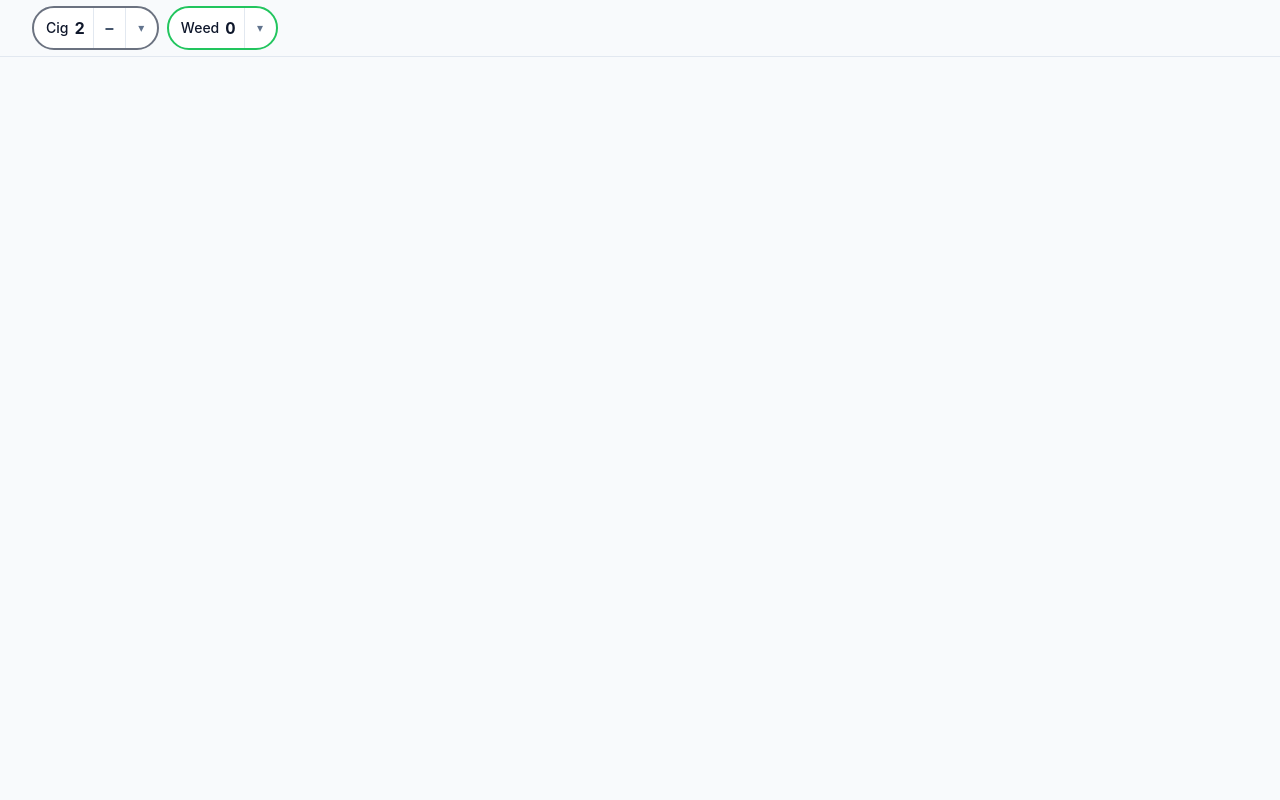
Scenario: counter pills › Undo removes that exact tap and the toast goes away
Click the button with aria-label "Cigarette": (63, 28) left=34, top=8, right=93, bottom=48
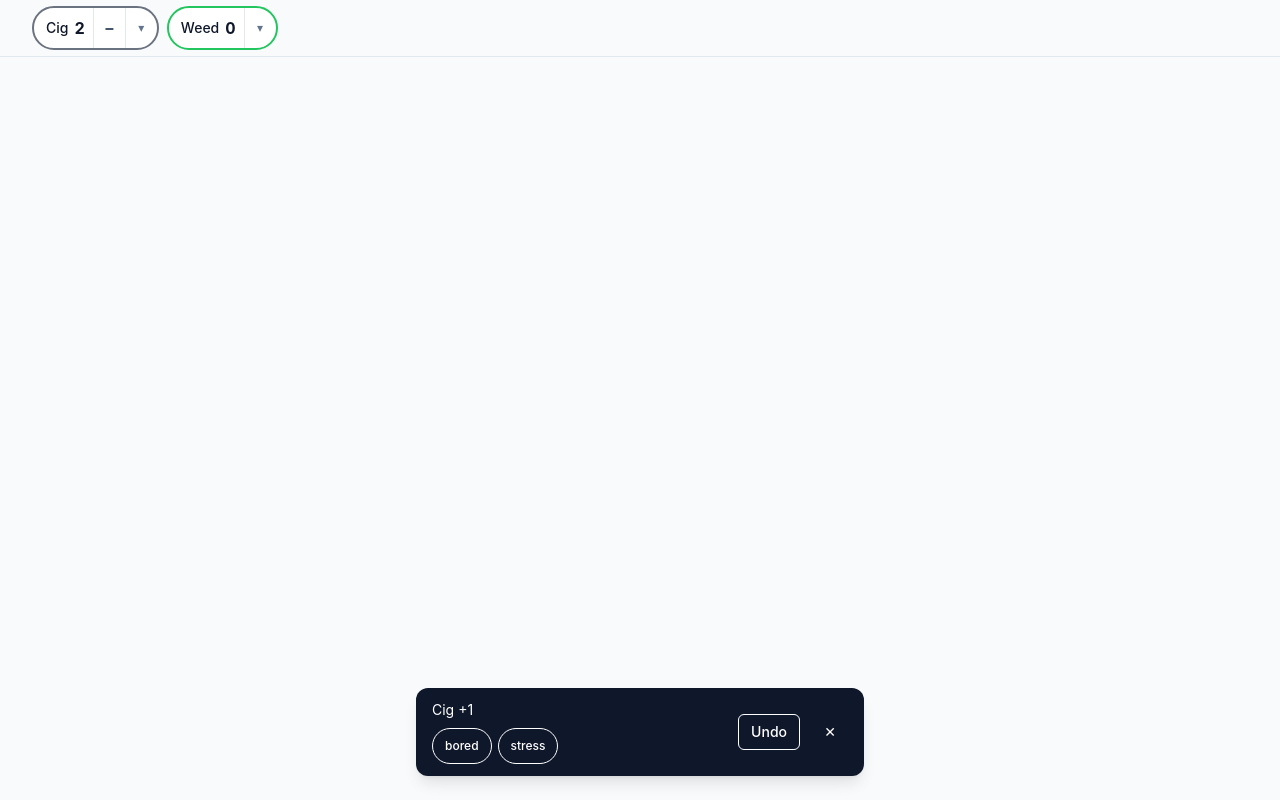
Click the button "Undo": (769, 732) left=738, top=714, right=800, bottom=750
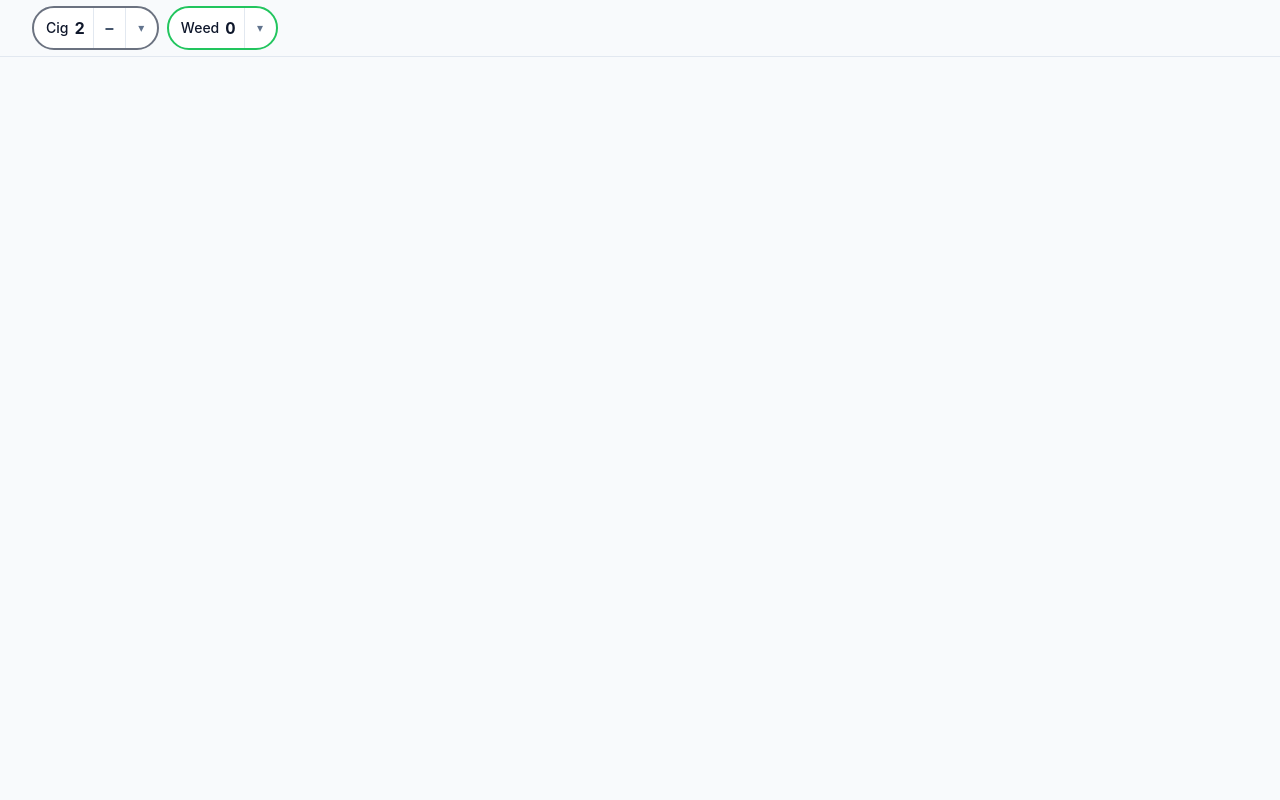
Expected: the message "Cig +1 bored stress Undo ✕" is gone
